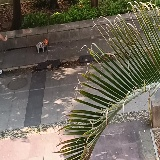fire: (43, 37, 48, 45)
